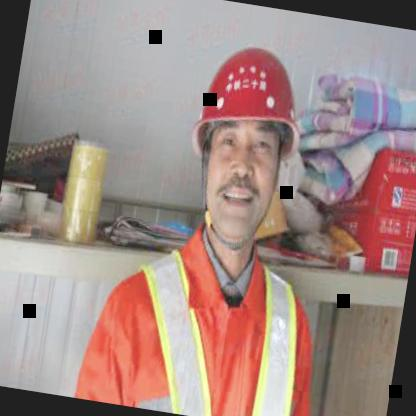helmet: (166, 26, 318, 262)
